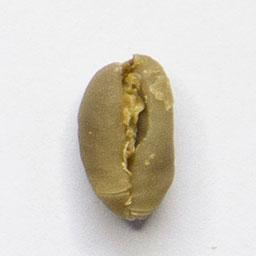peaberry: (74, 51, 180, 226)
